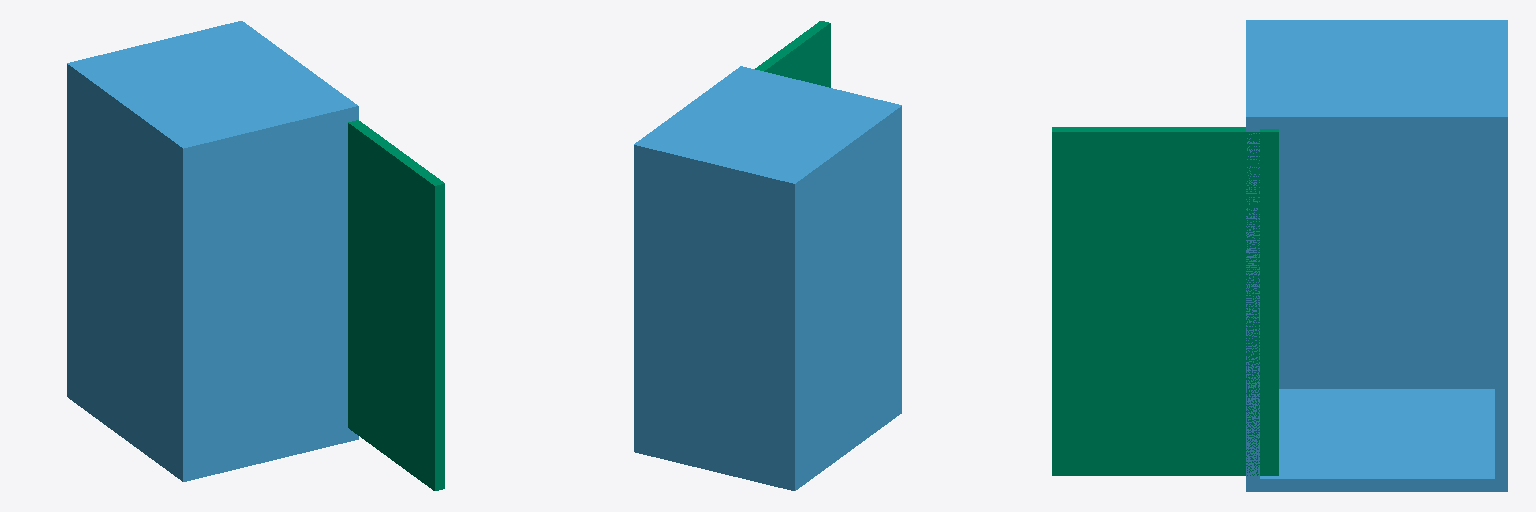
robot.urdf — my_cabinet:
<?xml version="1.0" ?>
<robot name="my_cabinet">
	<link name="world"/>
	<joint name="virtual_joint" type="fixed">
		<parent link="world"/>
		<child link="base_cabinet_link"/>
		<origin xyz="0.0 0.0 0.0" rpy="0.0 0.0 0.0"/>
	</joint>
	<link name="base_cabinet_link">
		<visual>
			<origin xyz="0.0 0.0 -0.264" rpy="0.0 0.0 0.0"/>
			<geometry>
				<box size="0.3 0.346 0.018"/>
			</geometry>
		</visual>
		<collision>
			<origin xyz="0.0 0.0 -0.264" rpy="0.0 0.0 0.0"/>
			<geometry>
				<box size="0.3 0.346 0.018"/>
			</geometry>
		</collision>
		<visual>
			<origin xyz="0.0 0.16399999999999998 0.0" rpy="0.0 0.0 0.0"/>
			<geometry>
				<box size="0.3 0.018 0.546"/>
			</geometry>
		</visual>
		<collision>
			<origin xyz="0.0 0.16399999999999998 0.0" rpy="0.0 0.0 0.0"/>
			<geometry>
				<box size="0.3 0.018 0.546"/>
			</geometry>
		</collision>
		<visual>
			<origin xyz="0.0 -0.16399999999999998 0.0" rpy="0.0 0.0 0.0"/>
			<geometry>
				<box size="0.3 0.018 0.546"/>
			</geometry>
		</visual>
		<collision>
			<origin xyz="0.0 -0.16399999999999998 0.0" rpy="0.0 0.0 0.0"/>
			<geometry>
				<box size="0.3 0.018 0.546"/>
			</geometry>
		</collision>
		<visual>
			<origin xyz="0.0 0.0 0.264" rpy="0.0 0.0 0.0"/>
			<geometry>
				<box size="0.3 0.346 0.018"/>
			</geometry>
		</visual>
		<collision>
			<origin xyz="0.0 0.0 0.264" rpy="0.0 0.0 0.0"/>
			<geometry>
				<box size="0.3 0.346 0.018"/>
			</geometry>
		</collision>
		<visual>
			<origin xyz="-0.141 0.0 0.0" rpy="0.0 0.0 0.0"/>
			<geometry>
				<box size="0.018 0.346 0.546"/>
			</geometry>
		</visual>
		<collision>
			<origin xyz="-0.141 0.0 0.0" rpy="0.0 0.0 0.0"/>
			<geometry>
				<box size="0.018 0.346 0.546"/>
			</geometry>
		</collision>
		<inertial>
			<mass value="0.200000"/>
			<inertia ixx="0.006964" ixy="0.0" ixz="0.0" iyy="0.006469" iyz="0.0" izz="0.003495"/>
		</inertial>
	</link>
	<link name="door_link">
		<visual>
			<origin xyz="0.0 0.13999999999999999 0.0"/>
			<geometry>
				<box size="0.018 0.3 0.5"/>
			</geometry>
		</visual>
		<collision>
			<origin xyz="0.0 0.13999999999999999 0.0"/>
			<geometry>
				<box size="0.018 0.3 0.5"/>
			</geometry>
		</collision>
		<inertial>
			<mass value="0.200000"/>
			<inertia ixx="0.005667" ixy="0.0" ixz="0.0" iyy="0.004172" iyz="0.0" izz="0.001505"/>
		</inertial>
	</link>
	<joint name="joint_0" type="revolute">
		<origin xyz="0.141 -0.13999999999999999 0" rpy="0 0 3.141592653589793"/>
		<axis xyz="0 0 1"/>
		<parent link="base_cabinet_link"/>
		<child link="door_link"/>
		<limit effort="50" lower="-1.5707963267948966" upper="0" velocity="10"/>
		<dynamics friction="1.0"/>
	</joint>
	<gazebo reference="my_cabinet">
		<material>Gazebo/Blue</material>
	</gazebo>
</robot>

--- What the picture shows (computed from the rendered views, not written in the file) ---
The picture shows the robot from 3 angles, left to right: view 1: azimuth 30°, elevation 25°; view 2: azimuth 150°, elevation 25°; view 3: azimuth 270°, elevation 25°; orthographic projection.
Robot: my_cabinet — 3 links, 2 joints (1 revolute, 1 fixed); root link world; default pose: all joints at 0.
Visible links, largest first — view 1: base_cabinet_link, door_link; view 2: base_cabinet_link, door_link; view 3: base_cabinet_link, door_link.
Boxes of the visible links, box(x1,y1,x2,y2) form: base_cabinet_link: box(67, 21, 358, 481); door_link: box(348, 120, 444, 490); base_cabinet_link: box(634, 66, 901, 490); door_link: box(755, 21, 830, 87); base_cabinet_link: box(1246, 20, 1507, 491); door_link: box(1052, 127, 1278, 475).
Bounding box of the posed robot: 0.3 × 0.603 × 0.546 m (x, y, z).
Geometry: primitives only (box / cylinder / sphere), no mesh files.